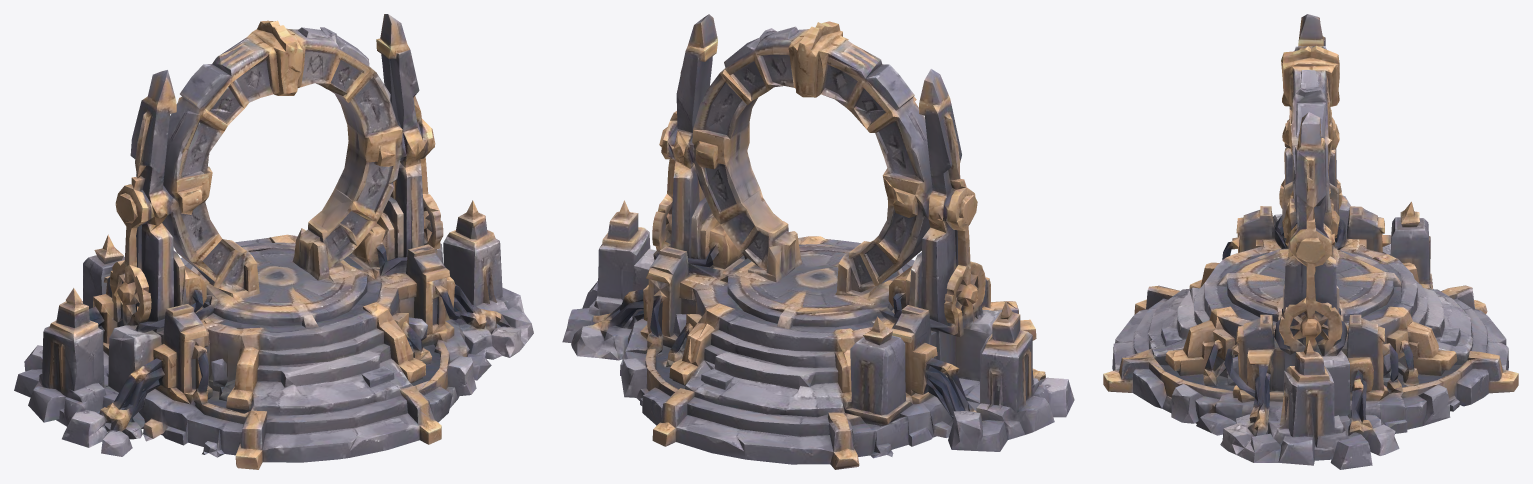
The model's file is hub_portal_machine.glb.
3 renders of one model, left to right at view 1: azimuth 30°, elevation 25°; view 2: azimuth 150°, elevation 25°; view 3: azimuth 270°, elevation 25°, orthographic. The views are drawn at different scales.
Parts seen in each view (by area): view 1: body; view 2: body; view 3: body.
Boxes of the visible parts, x1=… form: body: x1=14, y1=14, x2=533, y2=469; body: x1=562, y1=14, x2=1074, y2=469; body: x1=1103, y1=14, x2=1518, y2=469.
Size of the model in its own units: 8.42 by 5.99 by 7.02.
1 material, 1 textured.
